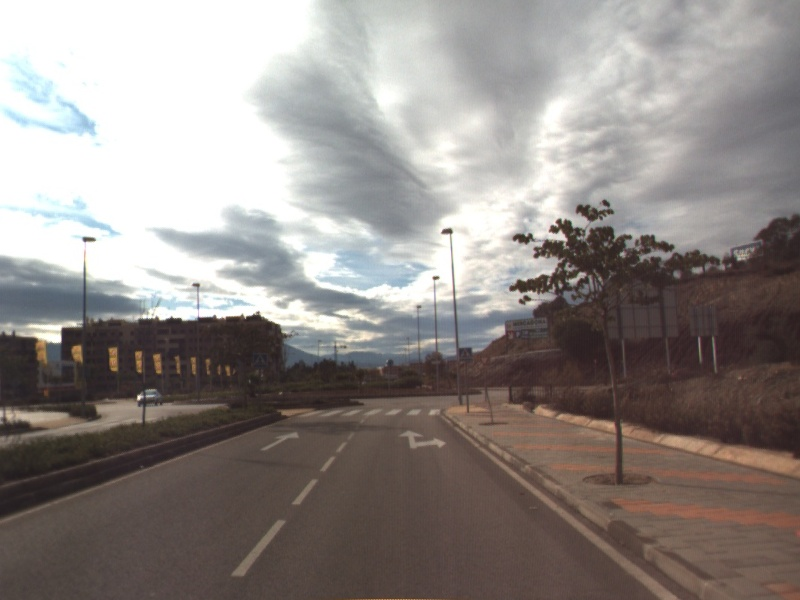STRAIGHT: (258, 429, 301, 452)
STRAIGHT_RIGHT: (397, 428, 448, 450)
